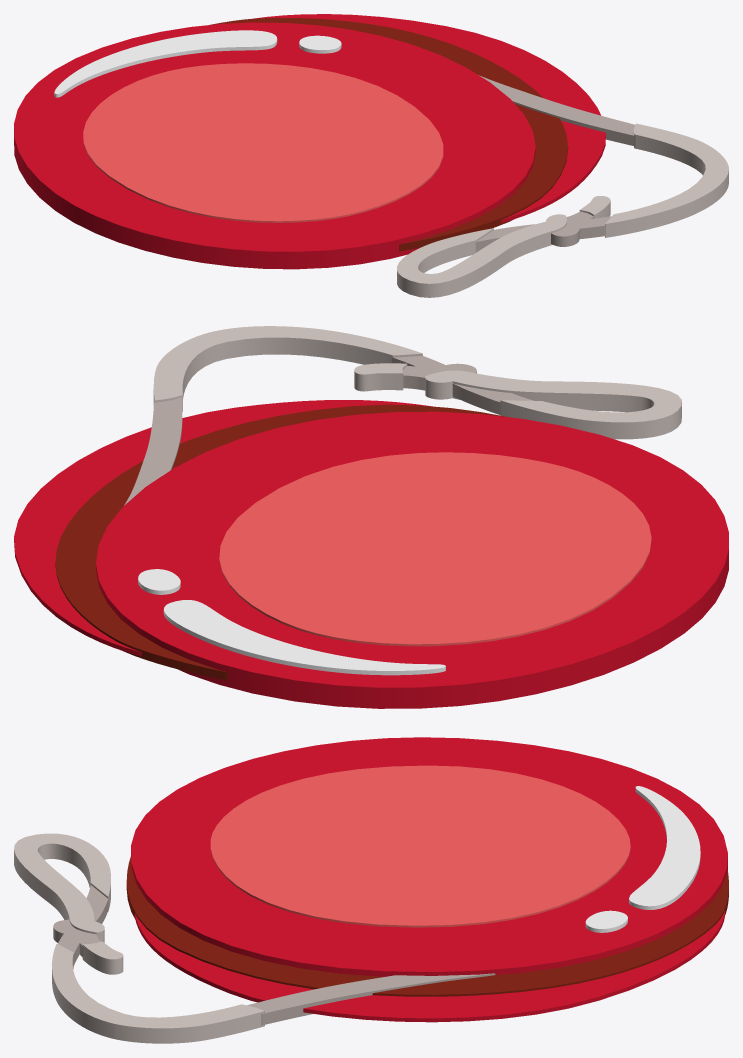
File: emoji_u1fa80.glb
3 renders of one model, top to bottom at view 1: azimuth 30°, elevation 25°; view 2: azimuth 150°, elevation 25°; view 3: azimuth 270°, elevation 25°, orthographic. The views are drawn at different scales.
Visible parts, largest first — view 1: emoji_u1fa80; view 2: emoji_u1fa80; view 3: emoji_u1fa80.
Boxes of the visible parts, bbox=[...] form: emoji_u1fa80: bbox=[14, 14, 728, 297]; emoji_u1fa80: bbox=[14, 326, 728, 708]; emoji_u1fa80: bbox=[14, 737, 728, 1043].
Size of the model in its own units: 0.0324 by 0.0014 by 0.0339.
